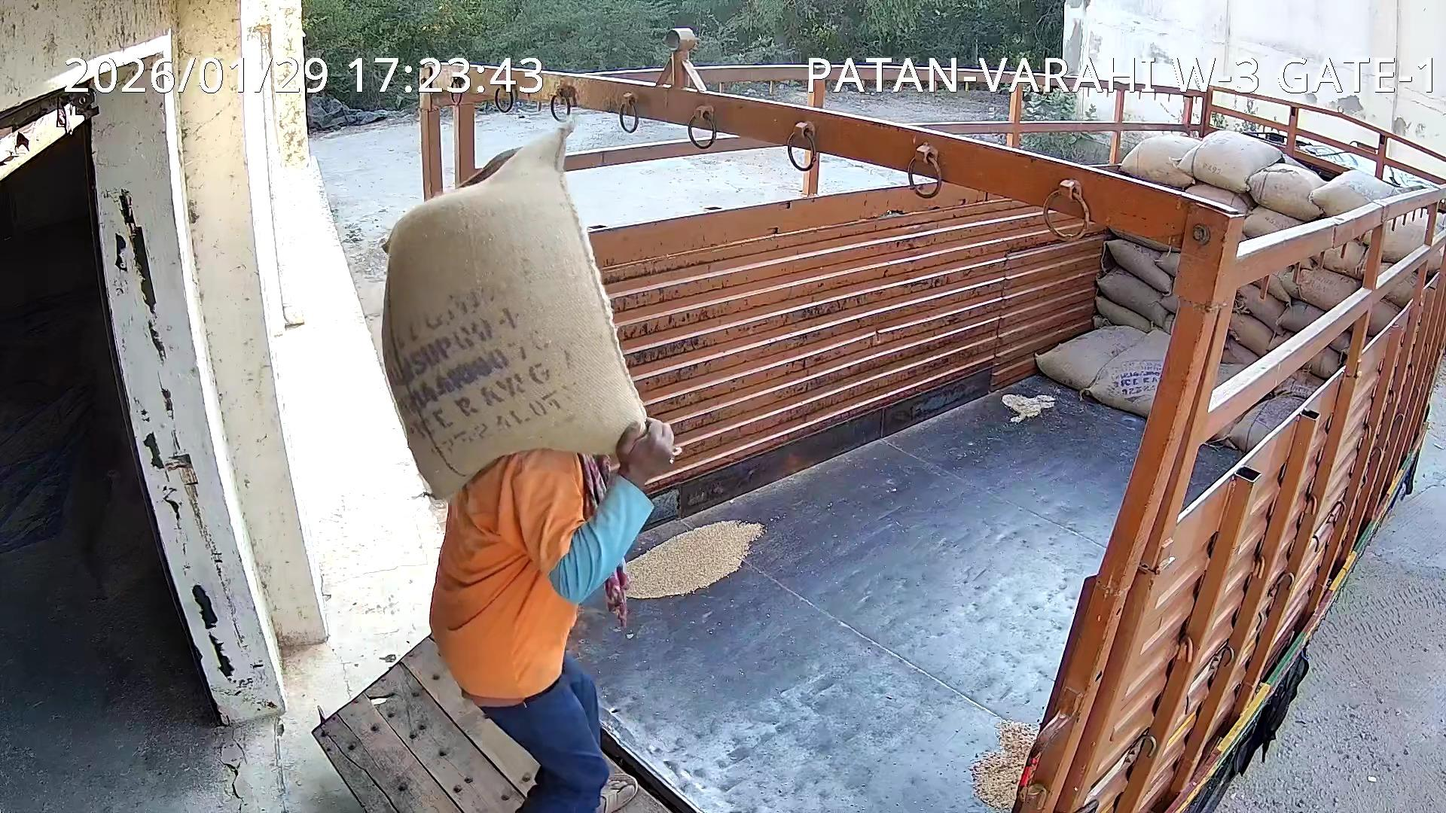Sack: (382, 122, 643, 495)
